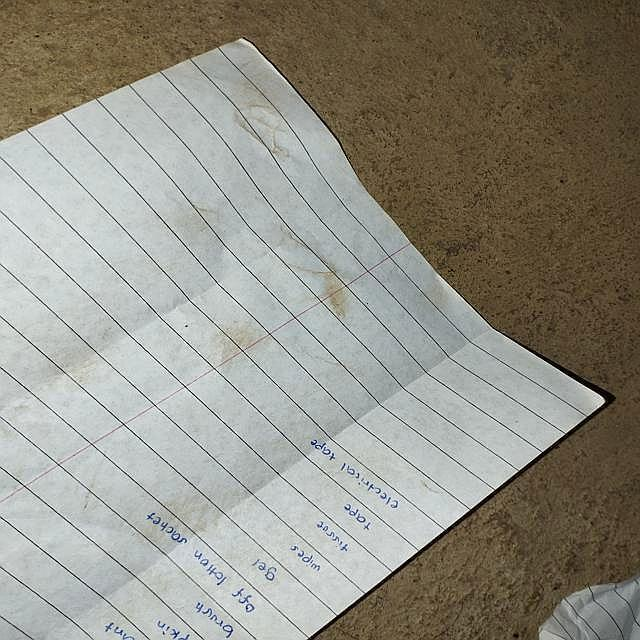Biodegradable: (1, 41, 640, 640)
